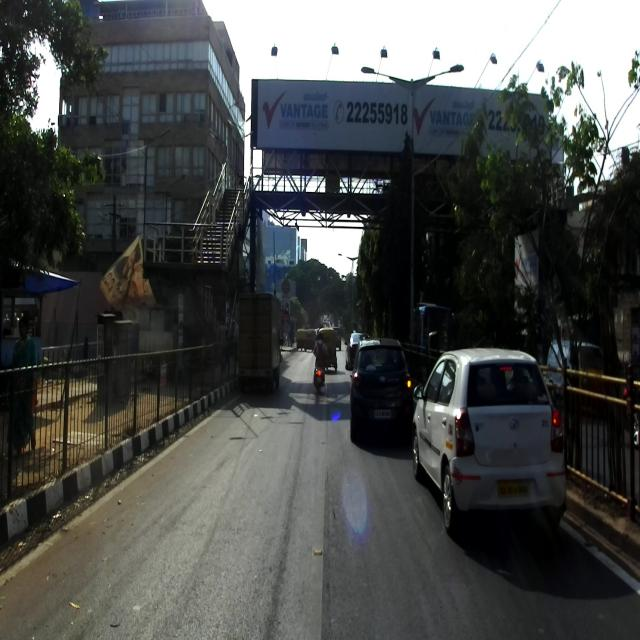Car: (344, 332, 369, 368), (331, 326, 341, 350)
Car_Hyundai: (345, 336, 413, 444)
Car_Maruti-Suzuki: (547, 340, 601, 410)
Car_Toyota: (413, 345, 565, 538)
autorickshaw: (317, 327, 337, 372), (304, 329, 315, 352), (296, 328, 305, 351)
bus: (414, 304, 454, 350)
motorcycle: (312, 345, 328, 393)
